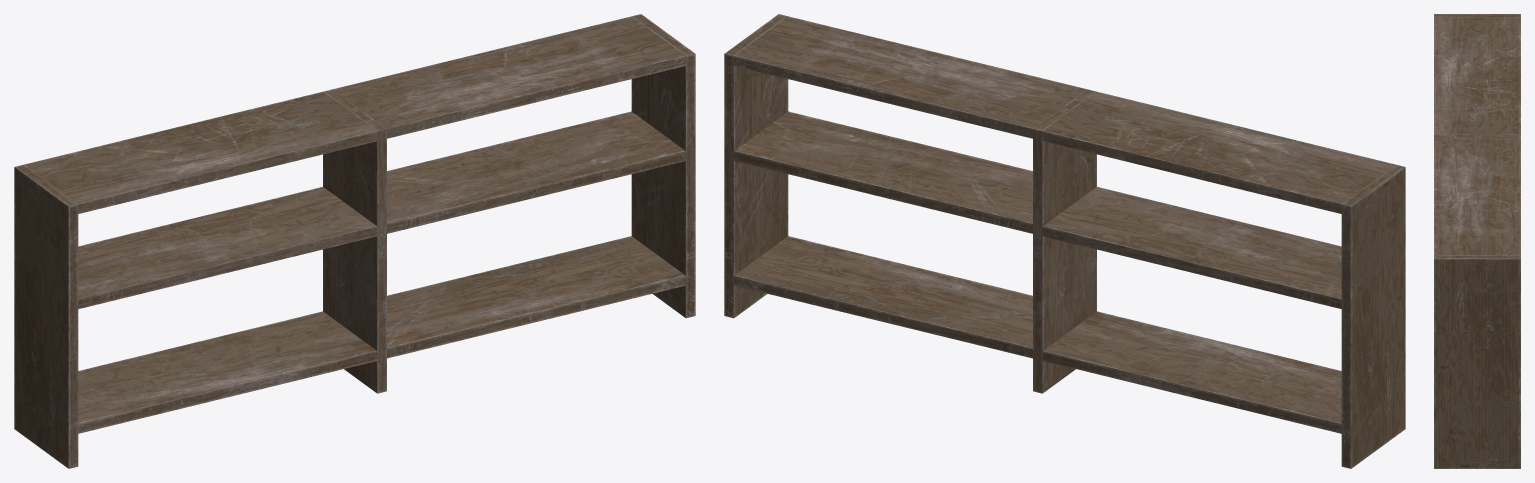
File: SM_shelf_s.gltf
The picture shows the model from 3 angles, left to right: view 1: azimuth 30°, elevation 25°; view 2: azimuth 150°, elevation 25°; view 3: azimuth 270°, elevation 25°; orthographic projection. The views are drawn at different scales.
Parts seen in each view (by area): view 1: SM_shelf_s; view 2: SM_shelf_s; view 3: SM_shelf_s.
Boxes of the visible parts, x1=… form: SM_shelf_s: x1=14, y1=14, x2=695, y2=468; SM_shelf_s: x1=724, y1=14, x2=1405, y2=468; SM_shelf_s: x1=1434, y1=14, x2=1520, y2=468.
Bounding box in the file's own units: 2 × 0.8 × 0.3.
Materials: 1 (1 with a texture image).
